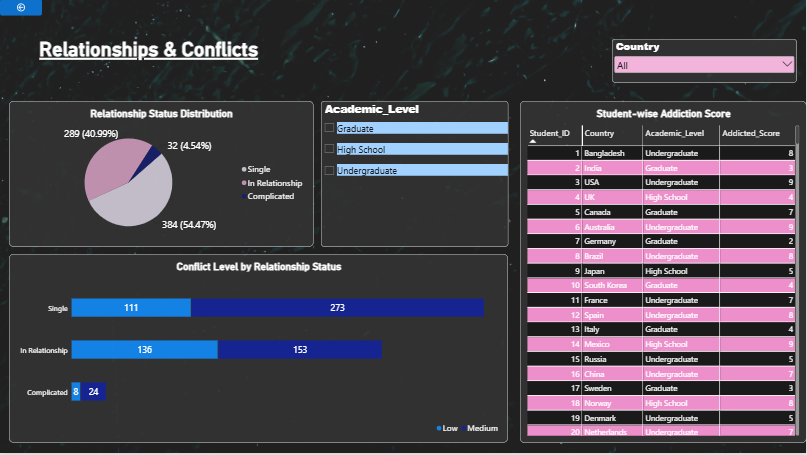

Layout of this report page (visuals, bound fields, positions):
{"tool":"powerbi","page":{"name":"Relationships & Conflicts","canvas":[1920,1080],"ordinal":3},"visuals":[{"type":"textbox","title":"Relationships & Conflicts","box":[21.3,93.5,665.4,55.3],"z":0},{"type":"slicer","fields":{"Values":["Student_Details.Academic_Level"]},"box":[763.2,242.4,446.5,346.5],"z":1000},{"type":"slicer","fields":{"Values":["Student_Details.Country"]},"box":[1456.3,95.7,440.1,104.2],"z":2000},{"type":"barChart","title":"Conflict Level by Relationship Status","fields":{"Category":["Student_Details.Relationship_Status"],"Series":["Student_Details.Conflict Level"],"Y":["Student_Details.Total Students"]},"box":[21.3,608,1188.4,448.6],"z":3000},{"type":"pieChart","title":"Relationship Status Distribution","fields":{"Category":["Student_Details.Relationship_Status"],"Y":["Student_Details.Total Students"]},"box":[21.3,242.4,725,346.5],"z":4000},{"type":"tableEx","title":"Student-wise Addiction Score","fields":{"Values":["Student_Details.Student_ID","Student_Details.Country","Student_Details.Academic_Level","Student_Details.Addicted_Score"]},"box":[1237.3,242.4,682.4,814.3],"z":5000},{"type":"actionButton","box":[0,0,100,40],"z":6000}]}

Visuals, with their boxes in screenshot pixels (x1, y1, x2, y2), scaled from the page's 1920x1080 canvas onto the 807x455 screenshot:
"Relationships & Conflicts" textbox: <box>9,39,289,63</box>
slicer - Student_Details.Academic_Level: <box>321,102,508,248</box>
slicer - Student_Details.Country: <box>612,40,797,84</box>
"Conflict Level by Relationship Status" barChart: <box>9,256,508,445</box>
"Relationship Status Distribution" pieChart: <box>9,102,314,248</box>
"Student-wise Addiction Score" tableEx: <box>520,102,806,445</box>
actionButton: <box>0,0,42,17</box>
